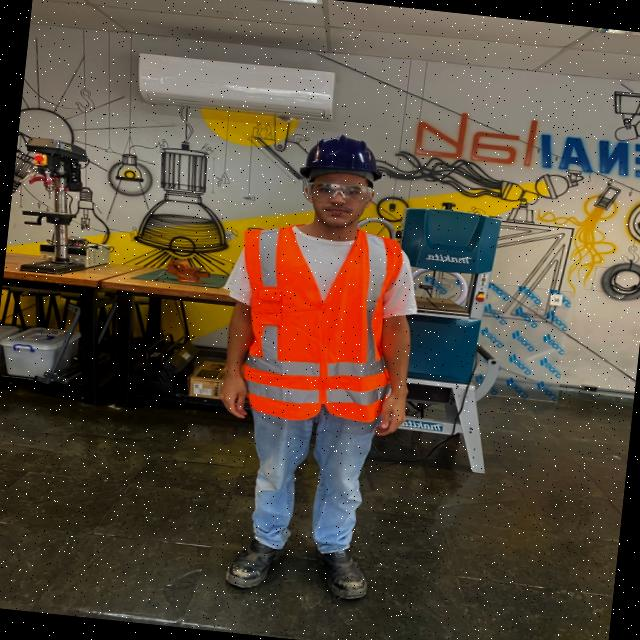BOTA: (220, 525, 293, 593), (308, 535, 369, 600)
CAPACETE: (297, 133, 383, 183)
COLETE: (237, 219, 403, 423)
OCULOS: (303, 182, 371, 204)
SEM LUVA: (368, 385, 413, 438), (217, 368, 253, 422)
